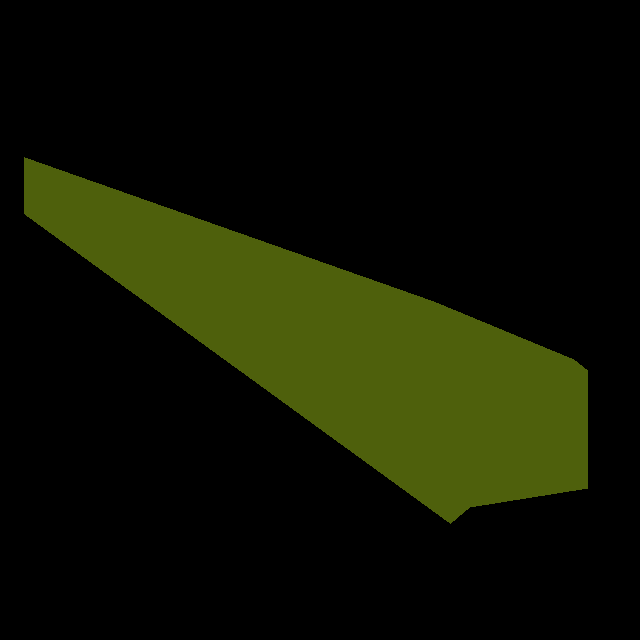Train: (24, 157, 588, 524)
